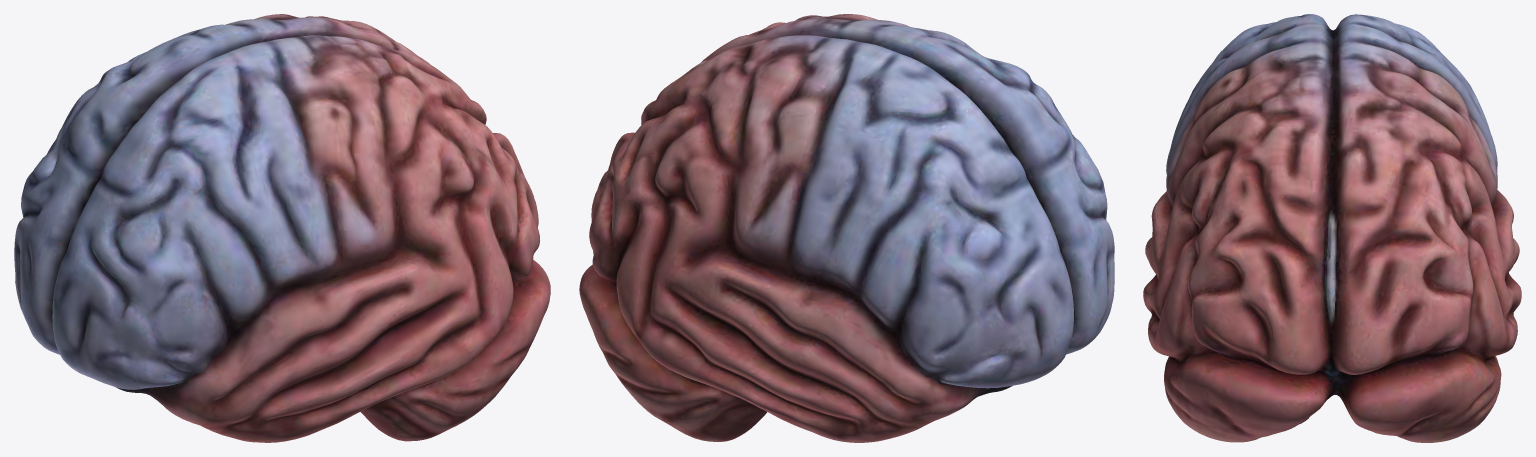
File: Brain2.glb
The picture shows the model from 3 angles, left to right: view 1: azimuth 30°, elevation 25°; view 2: azimuth 150°, elevation 25°; view 3: azimuth 270°, elevation 25°; orthographic projection. The views are drawn at different scales.
Parts seen in each view (by area): view 1: Brain; view 2: Brain; view 3: Brain.
Part boxes in pixels (x1,y1,x2,y2): Brain: [14, 14, 550, 442]; Brain: [579, 14, 1114, 442]; Brain: [1143, 14, 1521, 442].
Bounding box in the file's own units: 1.6 × 1.24 × 1.21.
1 material, 1 textured.
